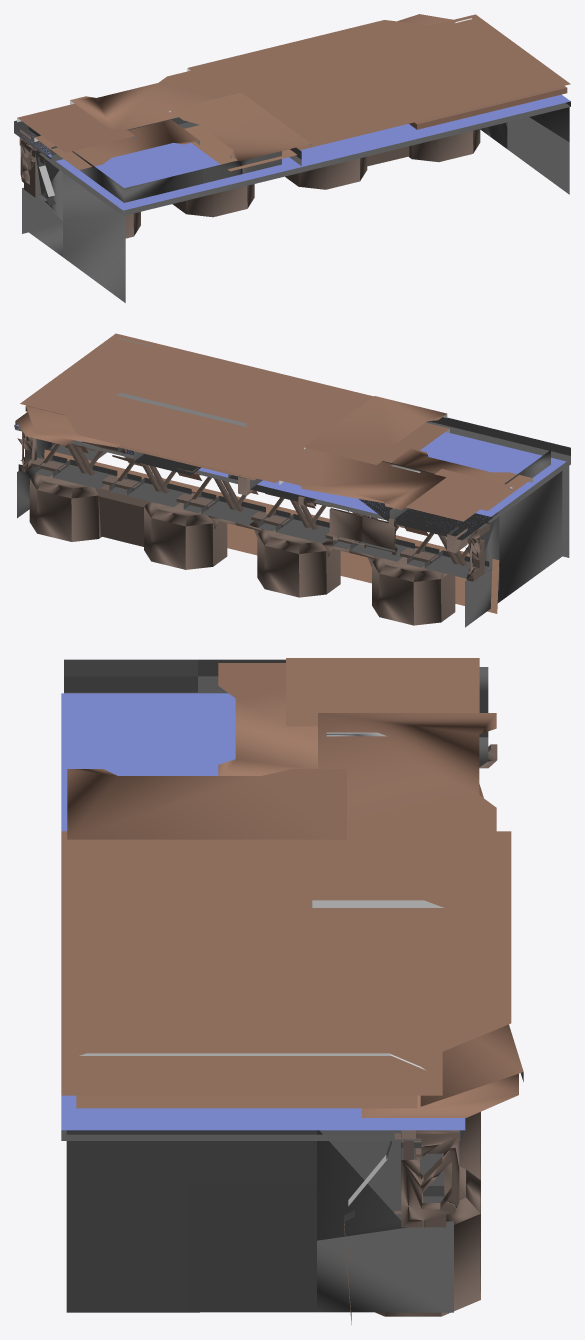
File: lorville_city_plating_wall_a_a.glb
3 renders of one model, top to bottom at view 1: azimuth 30°, elevation 25°; view 2: azimuth 150°, elevation 25°; view 3: azimuth 270°, elevation 25°, orthographic. The views are drawn at different scales.
Bounding box in the file's own units: 514 × 129 × 227.
